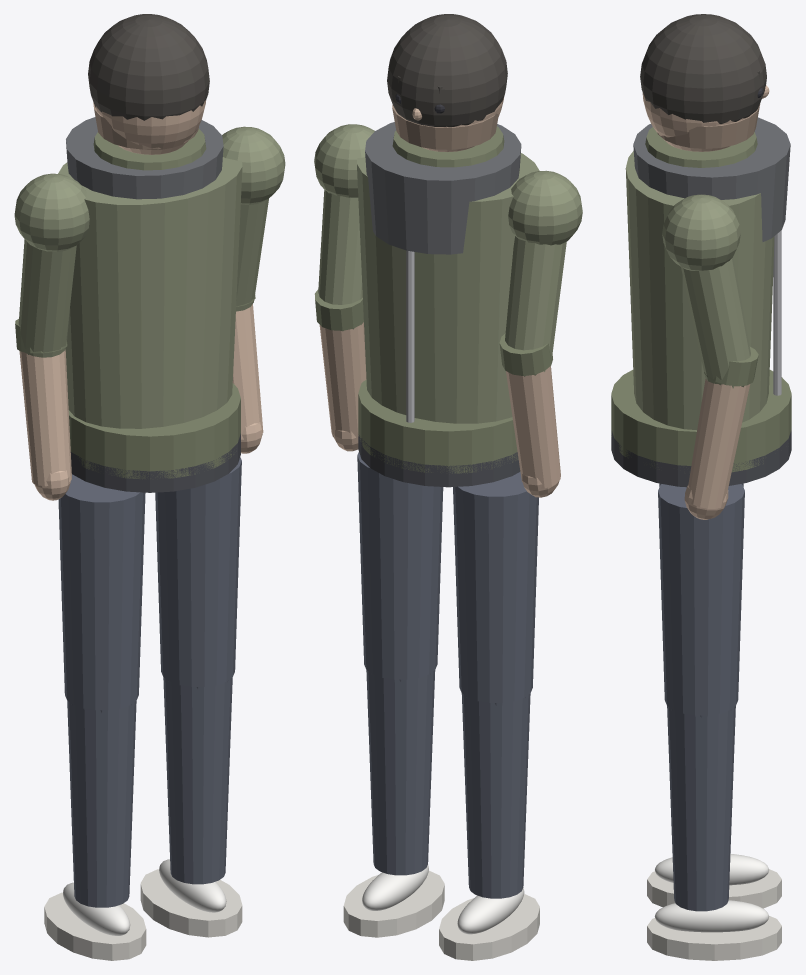
Rendered from hero-v2.fbx.
3 renders of one model, left to right at view 1: azimuth 30°, elevation 25°; view 2: azimuth 150°, elevation 25°; view 3: azimuth 270°, elevation 25°, orthographic.
Parts seen in each view (by area): view 1: Torso, LegR, LegL, ShinL, ShinR, Hair, Hem, TeePanel, ForeR, ArmR, ShoulderR, SoleL (+11 smaller); view 2: Torso, LegR, LegL, ShinL, ShinR, TeePanel, Hair, Hem, ArmR, ForeR, ShoulderR, ArmL (+12 smaller); view 3: Torso, LegL, ShinL, Hair, TeePanel, Hem, ArmL, ForeL, ShoulderL, SoleL, Belt, FootL (+8 smaller).
Part boxes in pixels (x1,y1,x2,y2): Torso: [58, 157, 242, 428]; LegR: [58, 474, 145, 710]; LegL: [155, 457, 241, 686]; ShinL: [163, 677, 232, 884]; ShinR: [67, 700, 136, 907]; Hair: [88, 14, 209, 120]; Hem: [68, 383, 240, 479]; TeePanel: [66, 117, 223, 199]; ForeR: [19, 349, 71, 486]; ArmR: [18, 239, 76, 357]; ShoulderR: [14, 173, 89, 252]; SoleL: [140, 869, 242, 937]; Torso: [357, 153, 539, 423]; LegR: [453, 472, 538, 702]; LegL: [357, 452, 443, 679]; ShinL: [366, 670, 435, 875]; ShinR: [461, 693, 530, 898]; TeePanel: [365, 122, 521, 254]; Hair: [387, 14, 507, 127]; Hem: [358, 379, 518, 473]; ArmR: [505, 236, 566, 359]; ForeR: [506, 366, 560, 488]; ShoulderR: [508, 170, 582, 245]; ArmL: [318, 190, 362, 304]; Torso: [625, 151, 774, 429]; LegL: [658, 484, 744, 715]; ShinL: [667, 706, 735, 911]; Hair: [640, 14, 766, 123]; TeePanel: [633, 117, 790, 241]; Hem: [611, 370, 791, 472]; ArmL: [681, 257, 750, 384]; ForeL: [688, 378, 750, 508]; ShoulderL: [662, 194, 740, 271]; SoleL: [647, 916, 781, 960]; Belt: [611, 430, 791, 487]; FootL: [654, 900, 769, 932].
Size of the model in its own units: 0.57 by 1.89 by 0.344.
